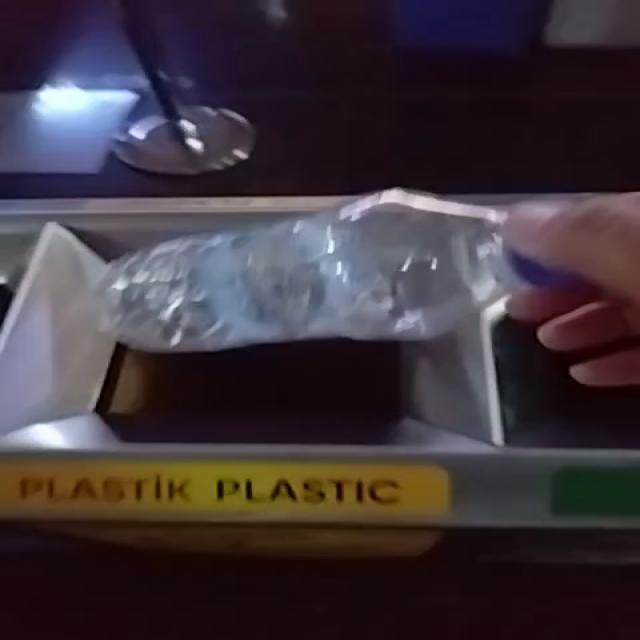Plastic: (103, 188, 504, 352)
